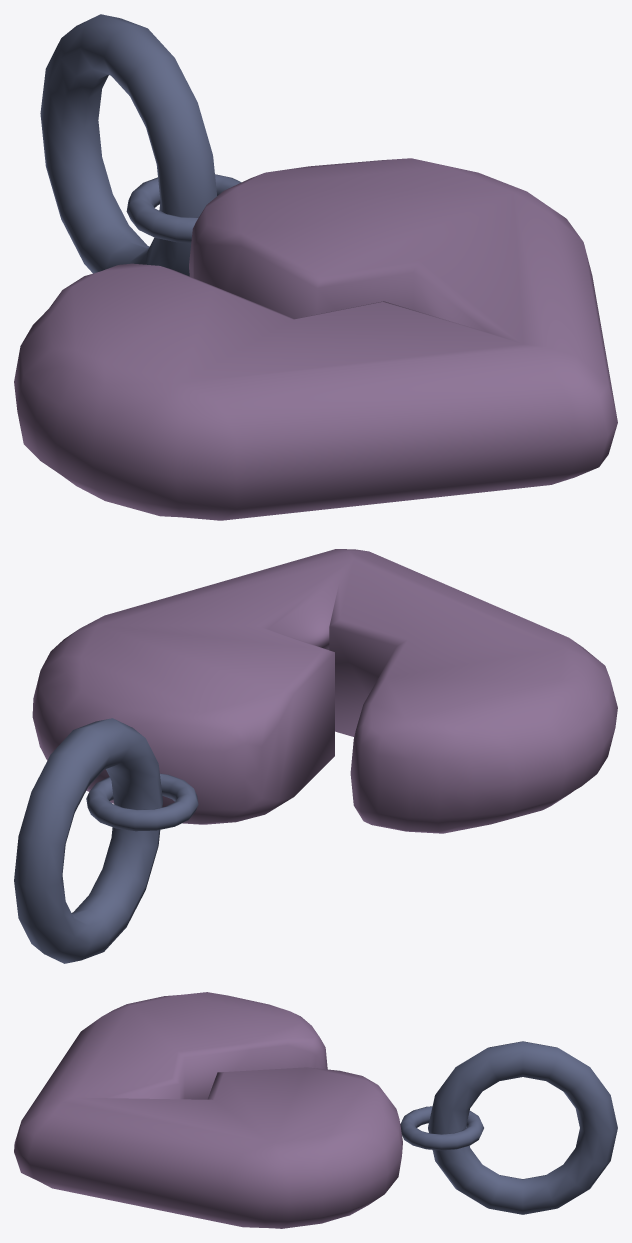
Rendered from charm_heart_broken.fbx.
3 views of the same model, one above another, from view 1: azimuth 30°, elevation 25°; view 2: azimuth 150°, elevation 25°; view 3: azimuth 270°, elevation 25° (orthographic). The views are drawn at different scales.
Visible parts, largest first — view 1: charm_heart_broken; view 2: charm_heart_broken; view 3: charm_heart_broken.
Part boxes in pixels (box(x1,y1,x2,y2)): charm_heart_broken: box(14, 14, 617, 520); charm_heart_broken: box(14, 549, 617, 963); charm_heart_broken: box(14, 992, 617, 1228).
Bounding box in the file's own units: 2.29 × 1.01 × 3.22.
